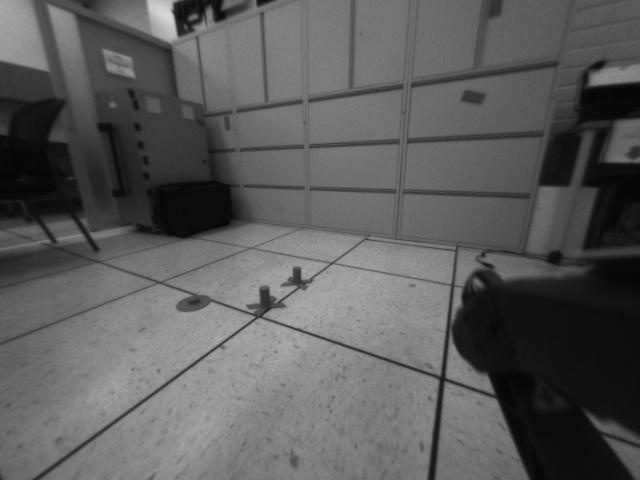X: (246, 285, 288, 318), (281, 265, 313, 290)
